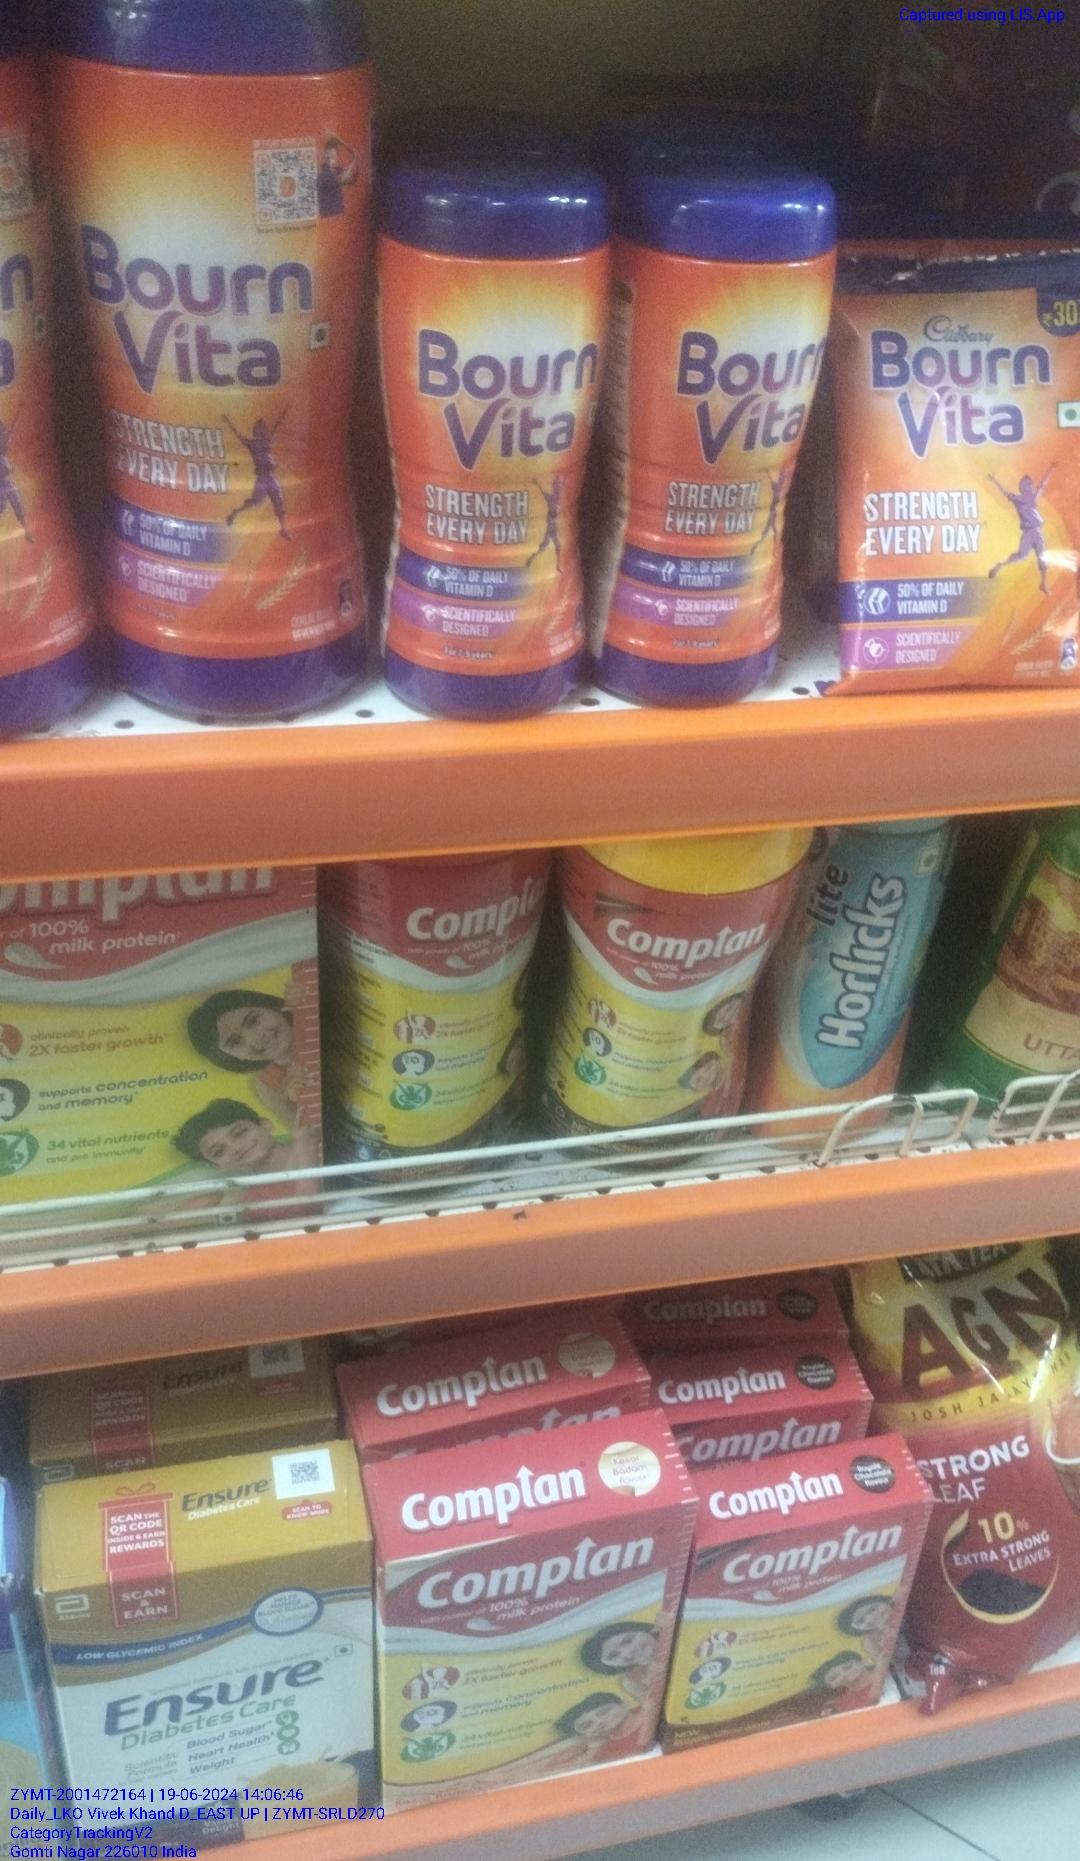BOURN_VITA_200_G_JAR: (383, 161, 597, 717), (625, 171, 832, 718)
BOURN_VITA_75_G_POUCH: (842, 256, 1080, 690)
COMPLAN_CHOCOLATE_200_GMS_PACK: (683, 1527, 909, 1743)
COMPLAN_CHOCOLATE_500_GMS_JAR: (336, 847, 559, 1198), (570, 820, 769, 1175)
HORLICKS_LITE_REGULAR_MALT_500_GM_JAR: (782, 805, 948, 1153)
